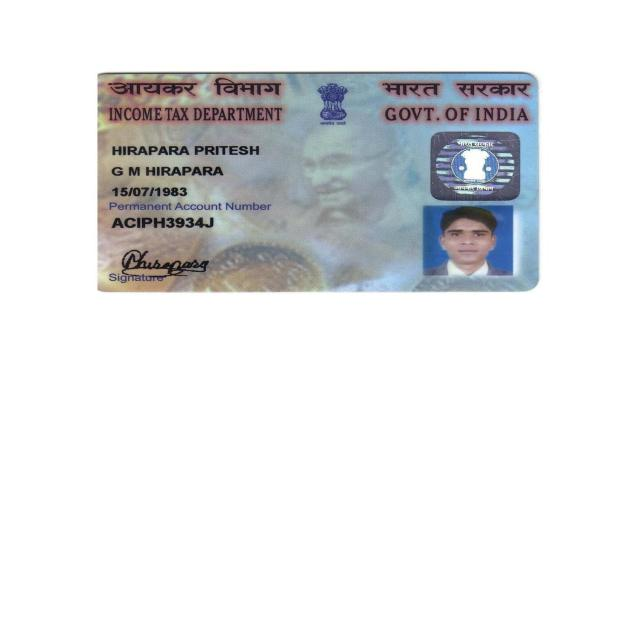pan_card: (97, 74, 536, 290)
